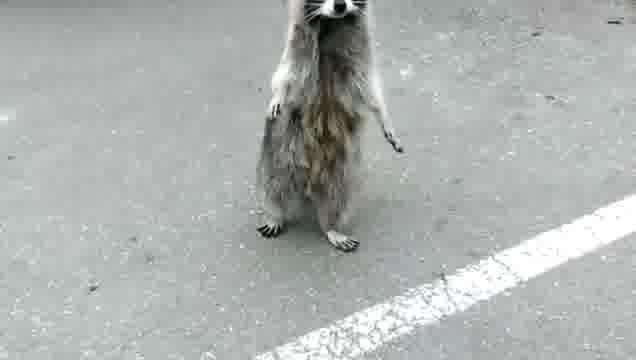raccoon: (250, 0, 405, 255)
